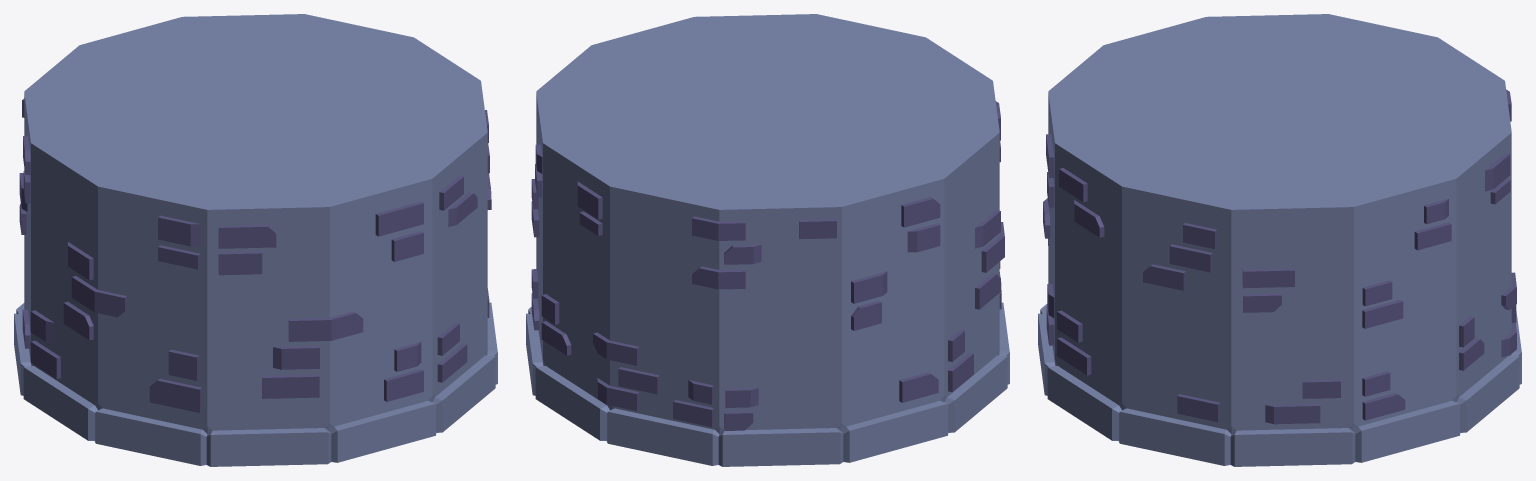
Rendered from Wall_Tower_01.fbx.
3 renders of one model, left to right at view 1: azimuth 30°, elevation 25°; view 2: azimuth 150°, elevation 25°; view 3: azimuth 270°, elevation 25°, orthographic.
Parts seen in each view (by area): view 1: Wall_Tower_01; view 2: Wall_Tower_01; view 3: Wall_Tower_01.
Boxes of the visible parts, x1,y1,x2,y2 form: Wall_Tower_01: (14, 14, 497, 466); Wall_Tower_01: (526, 14, 1009, 466); Wall_Tower_01: (1038, 14, 1521, 466).
Size of the model in its own units: 1387 by 800 by 1387.
